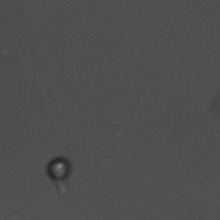Living Cell: (47, 156, 70, 180)
